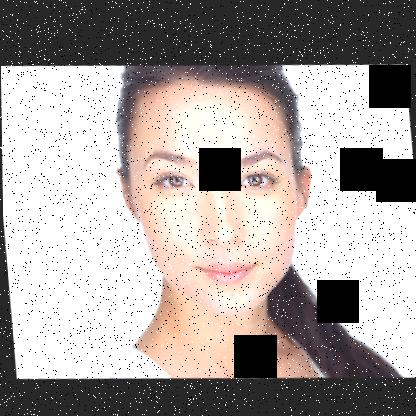Female: (108, 69, 323, 323)
